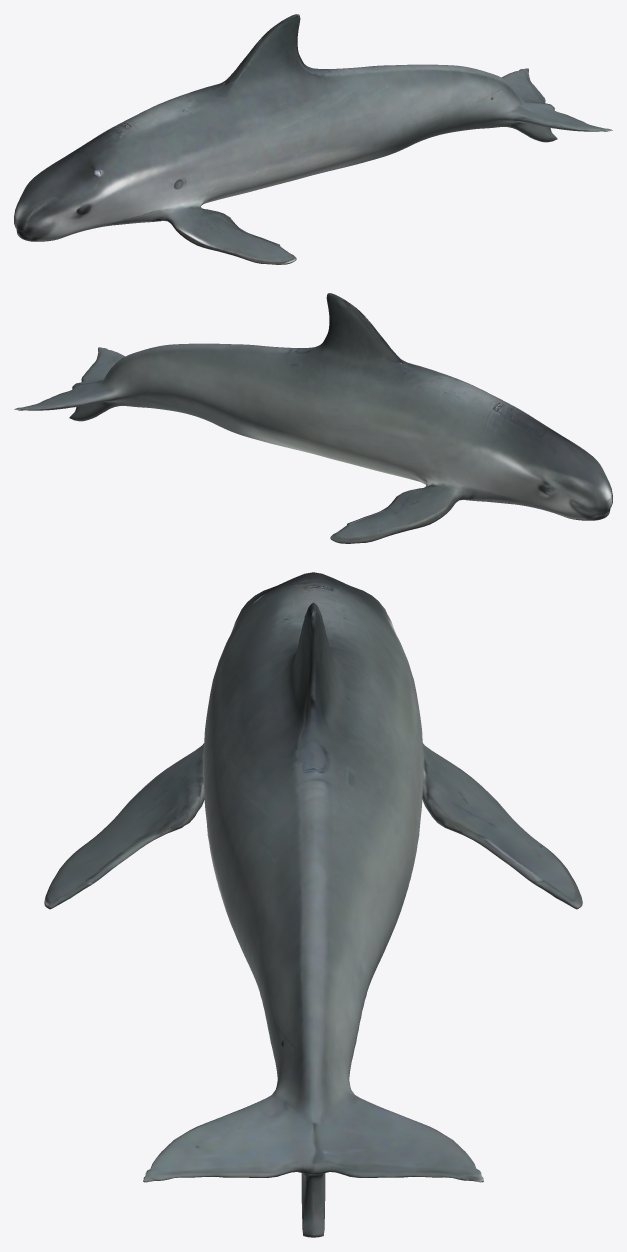
File: Vaquita_Illustration_0302032321_texture.glb
3 views of the same model, one above another, from view 1: azimuth 30°, elevation 25°; view 2: azimuth 150°, elevation 25°; view 3: azimuth 270°, elevation 25° (orthographic). The views are drawn at different scales.
Bounding box in the file's own units: 2 × 0.652 × 0.8408.
1 material, 1 textured.
